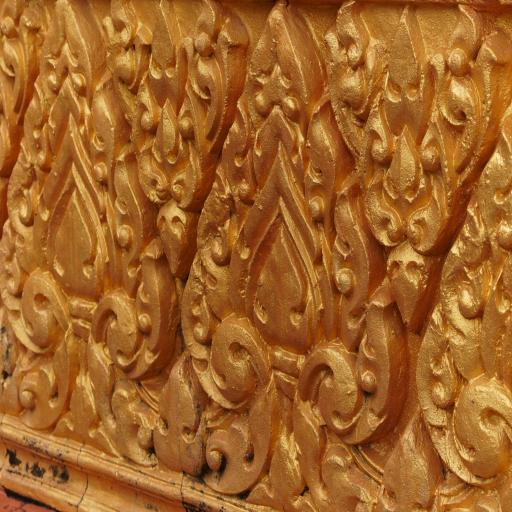lua: (157, 1, 408, 512), (1, 0, 179, 467), (328, 0, 512, 326), (411, 104, 512, 512), (98, 0, 244, 281), (0, 0, 42, 244)
